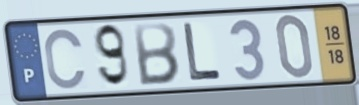0: (273, 12, 316, 82)
3: (227, 15, 268, 83)
9: (91, 22, 132, 91)
B: (132, 21, 182, 88)
C: (42, 26, 89, 92)
L: (182, 20, 225, 84)
